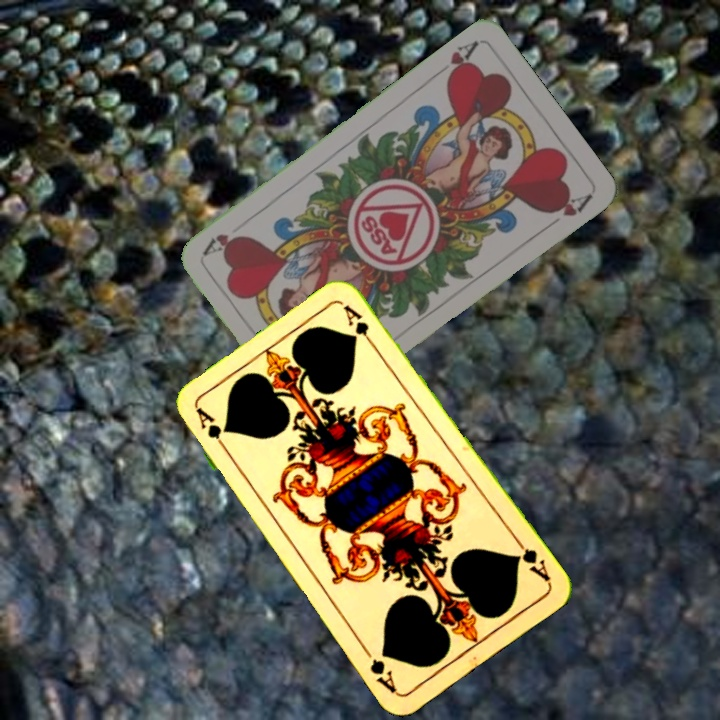GA: (510, 534, 553, 585), (192, 404, 232, 457)
HA: (431, 37, 481, 85)
